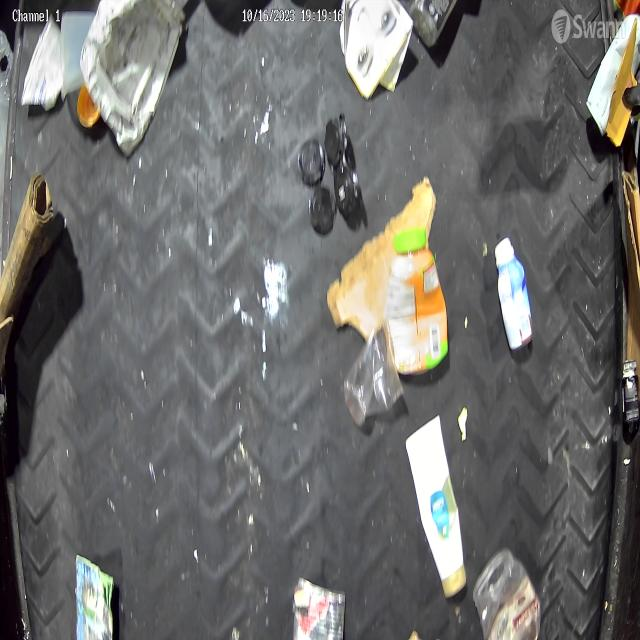can: (291, 571, 348, 640)
